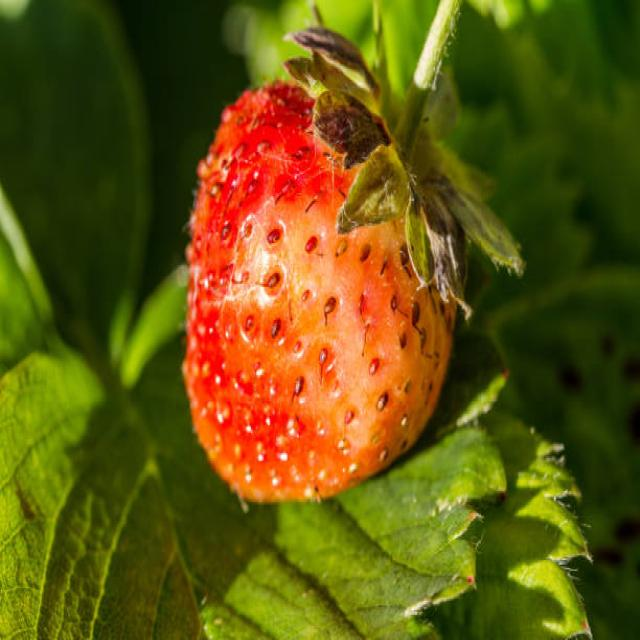Healthy Fruit: (184, 81, 453, 501)
